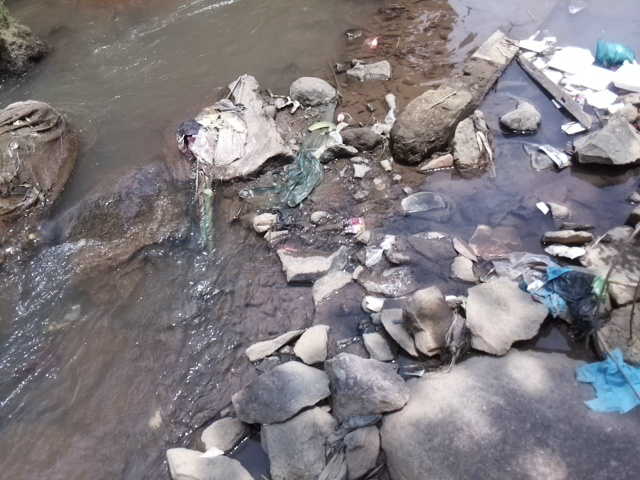Sampah_Plastik: (527, 262, 611, 337), (577, 348, 640, 418), (591, 36, 638, 67), (342, 215, 366, 234)
